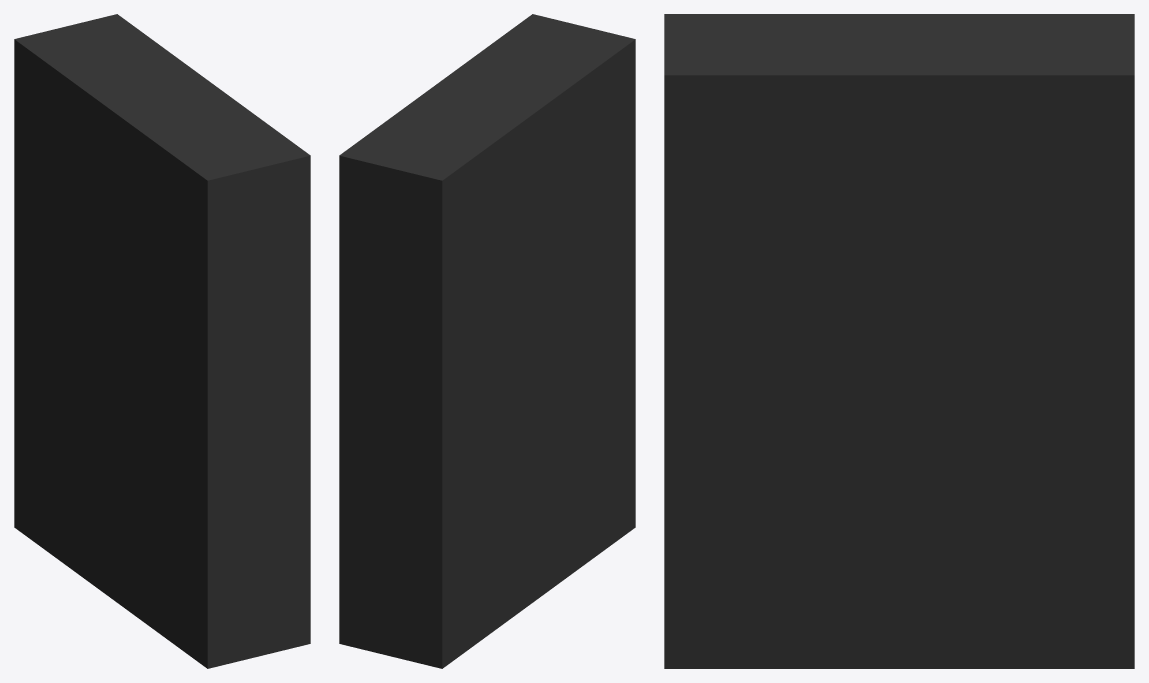
The model's file is Black Book.fbx.
3 views of the same model, side by side, from view 1: azimuth 30°, elevation 25°; view 2: azimuth 150°, elevation 25°; view 3: azimuth 270°, elevation 25° (orthographic). The views are drawn at different scales.
Visible parts, largest first — view 1: Black Book; view 2: Black Book; view 3: Black Book.
Boxes of the visible parts, box(x1,y1,x2,y2) form: Black Book: box(14, 14, 310, 668); Black Book: box(339, 14, 635, 668); Black Book: box(664, 14, 1134, 668).
Size of the model in its own units: 0.0501 by 0.2265 by 0.1627.
